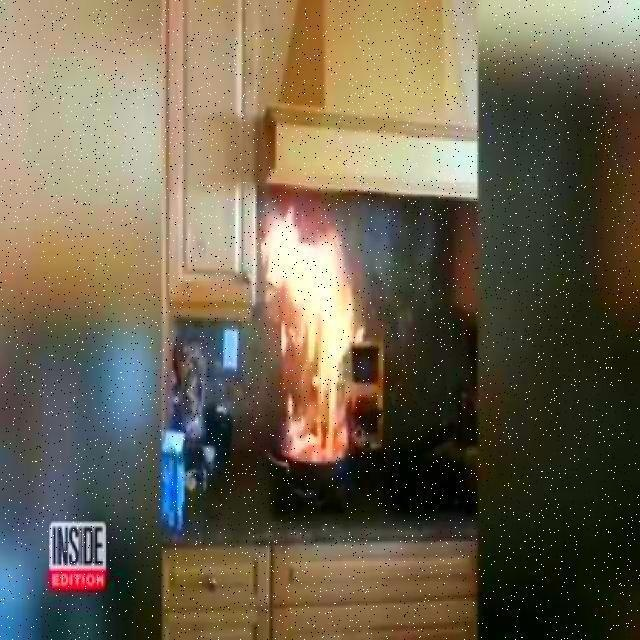fire: (240, 192, 384, 486)
